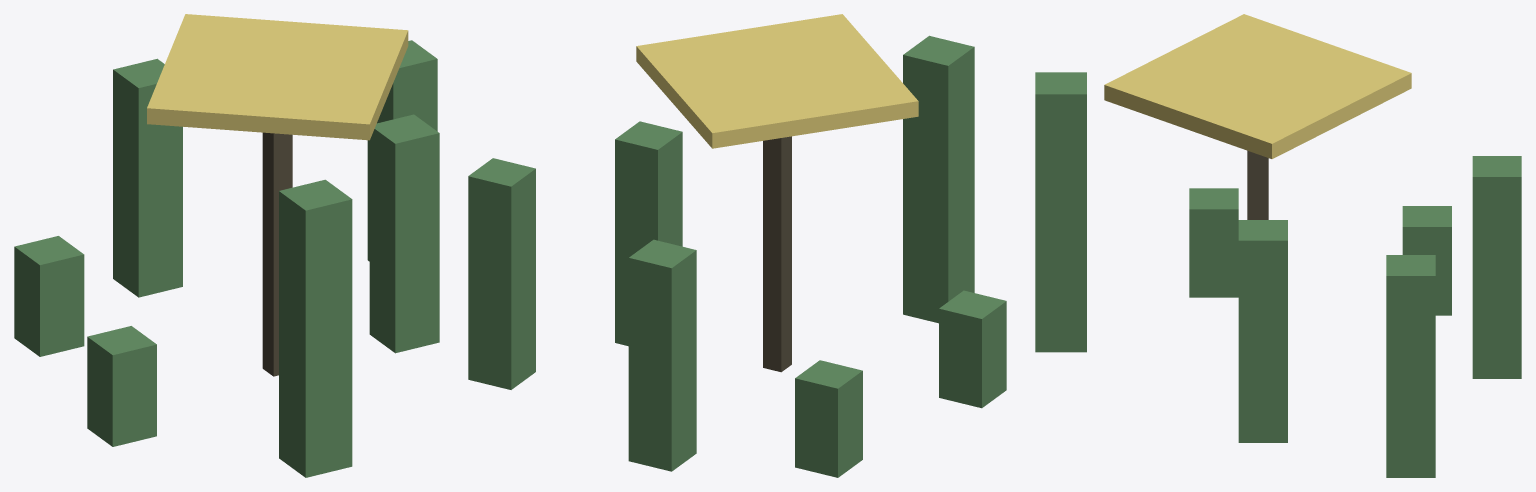
File: PlantD_001.fbx
The picture shows the model from 3 angles, left to right: view 1: azimuth 30°, elevation 25°; view 2: azimuth 150°, elevation 25°; view 3: azimuth 270°, elevation 25°; orthographic projection. The views are drawn at different scales.
Visible parts, largest first — view 1: PlantD_001; view 2: PlantD_001; view 3: PlantD_001.
Boxes of the visible parts, x1,y1,x2,y2 form: PlantD_001: (14, 14, 439, 477); PlantD_001: (468, 14, 1006, 477); PlantD_001: (1035, 14, 1521, 477).
Bounding box in the file's own units: 0.2581 × 0.175 × 0.264.
